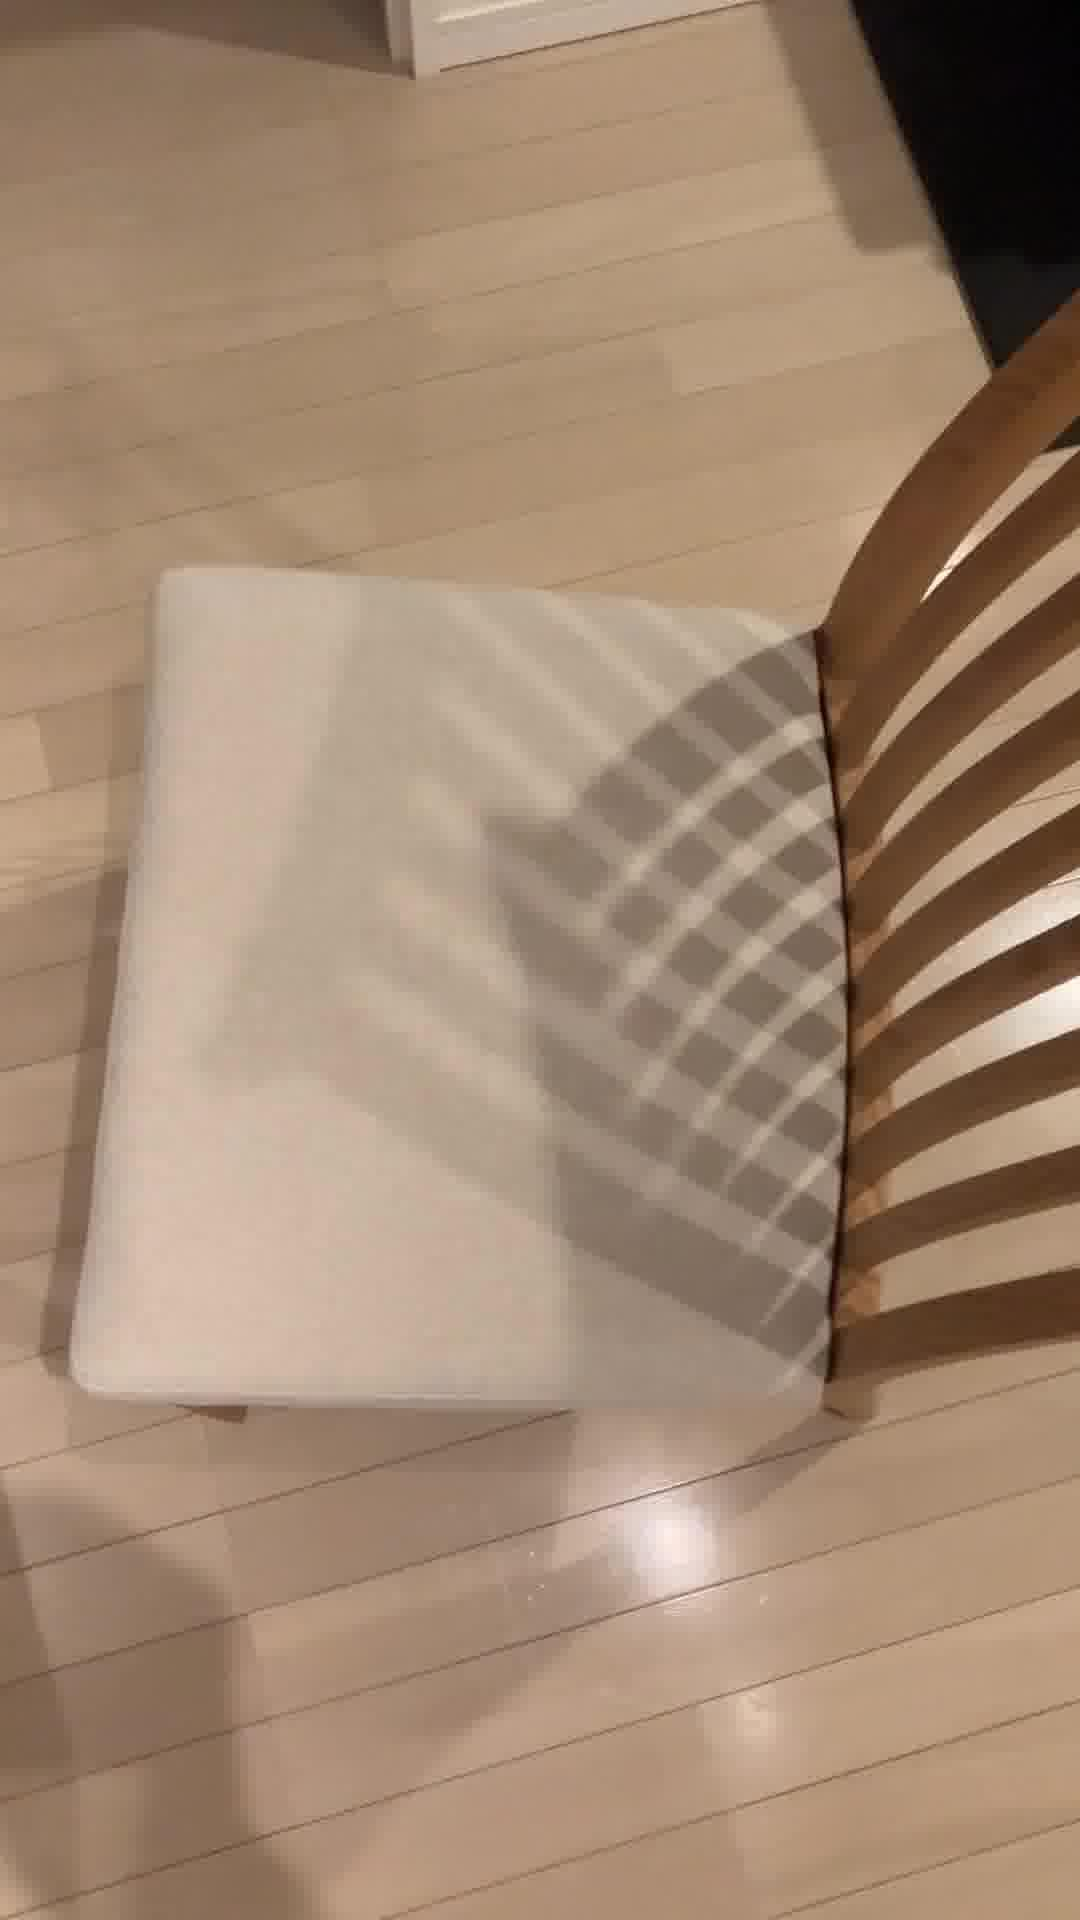takumikan-chair: (69, 290, 1080, 1429)
